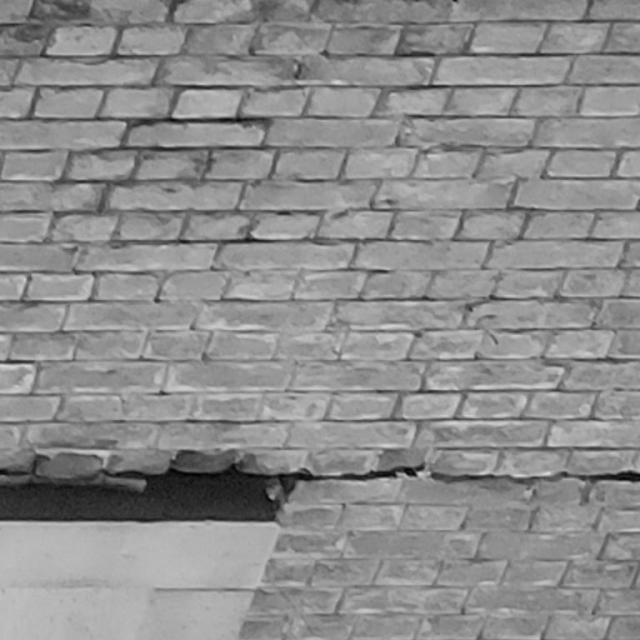crack: (1, 463, 640, 482)
